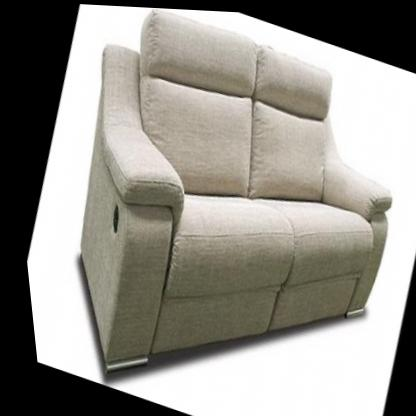Sofa: (2, 0, 416, 416)
